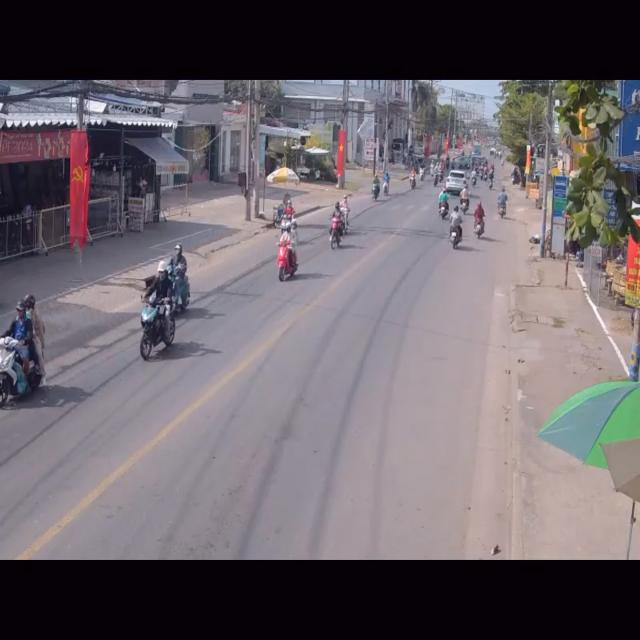motorbike: (0, 294, 44, 408), (140, 267, 175, 363), (163, 244, 190, 313), (276, 232, 300, 285), (330, 192, 351, 252), (280, 203, 297, 236), (474, 199, 488, 239), (450, 210, 464, 249), (369, 172, 382, 202), (497, 188, 508, 219), (438, 188, 448, 221), (458, 188, 470, 214)
